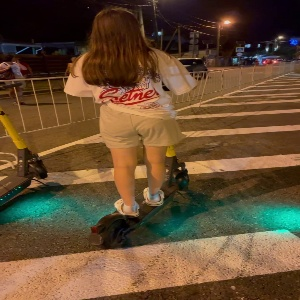human on a scooter: (61, 6, 197, 252)
